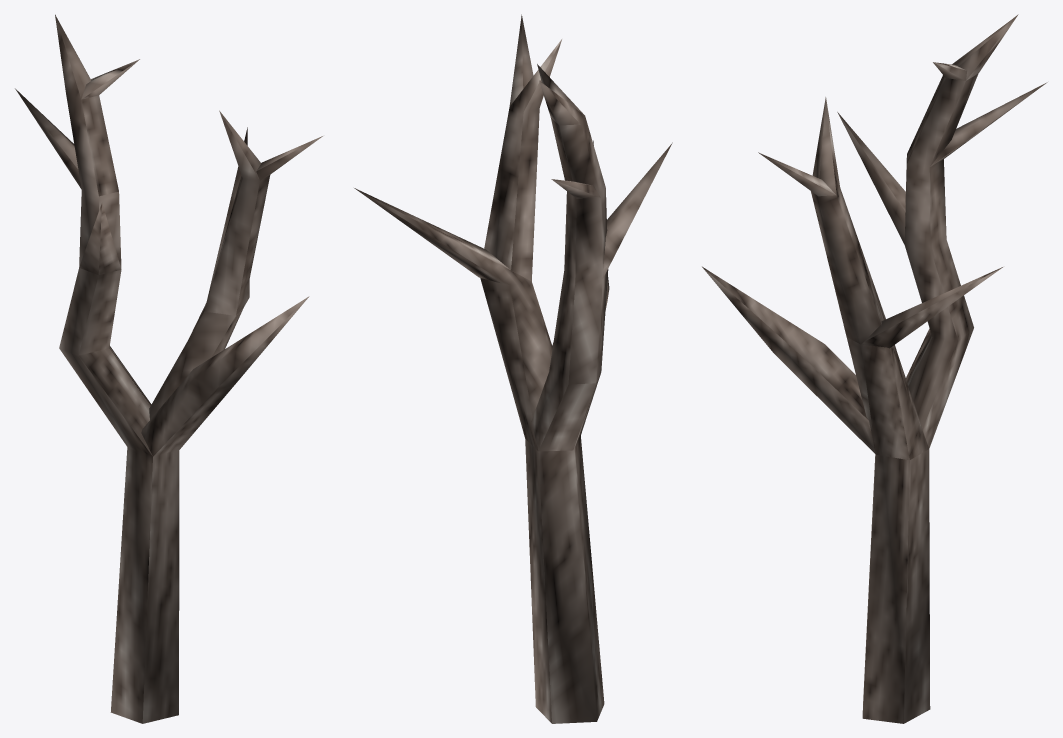
File: poplarnak_0.obj
The picture shows the model from 3 angles, left to right: view 1: azimuth 30°, elevation 25°; view 2: azimuth 150°, elevation 25°; view 3: azimuth 270°, elevation 25°; orthographic projection. The views are drawn at different scales.
Parts seen in each view (by area): view 1: poplar_0; view 2: poplar_0; view 3: poplar_0.
Part boxes in pixels (x1,y1,x2,y2): poplar_0: (15,14,322,723); poplar_0: (354,14,672,723); poplar_0: (702,14,1047,723).
Size of the model in its own units: 1.79 by 4.97 by 2.3.
